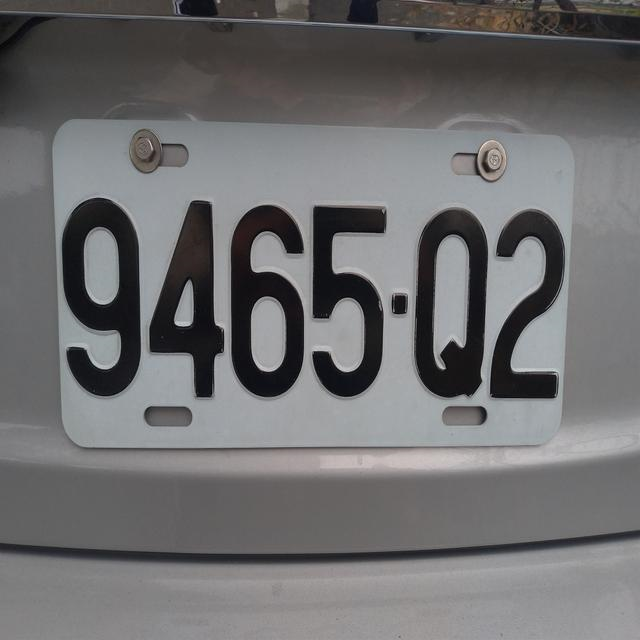license: (54, 127, 565, 444)
